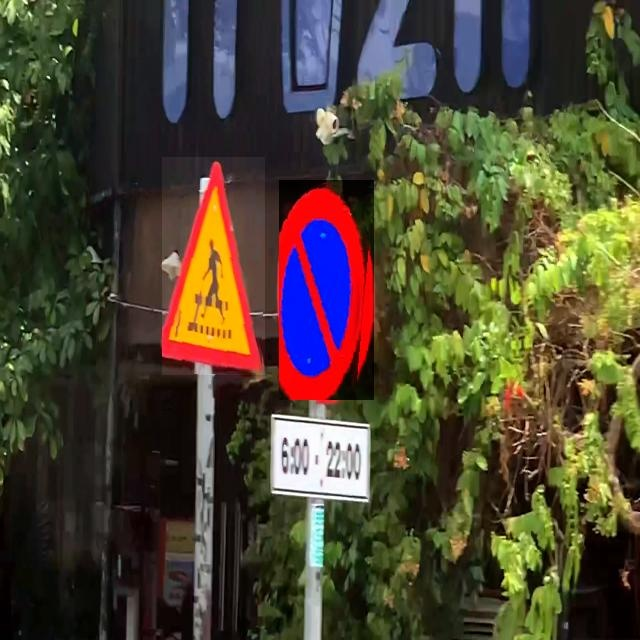bien_cam: (162, 157, 265, 375), (279, 180, 374, 400)
